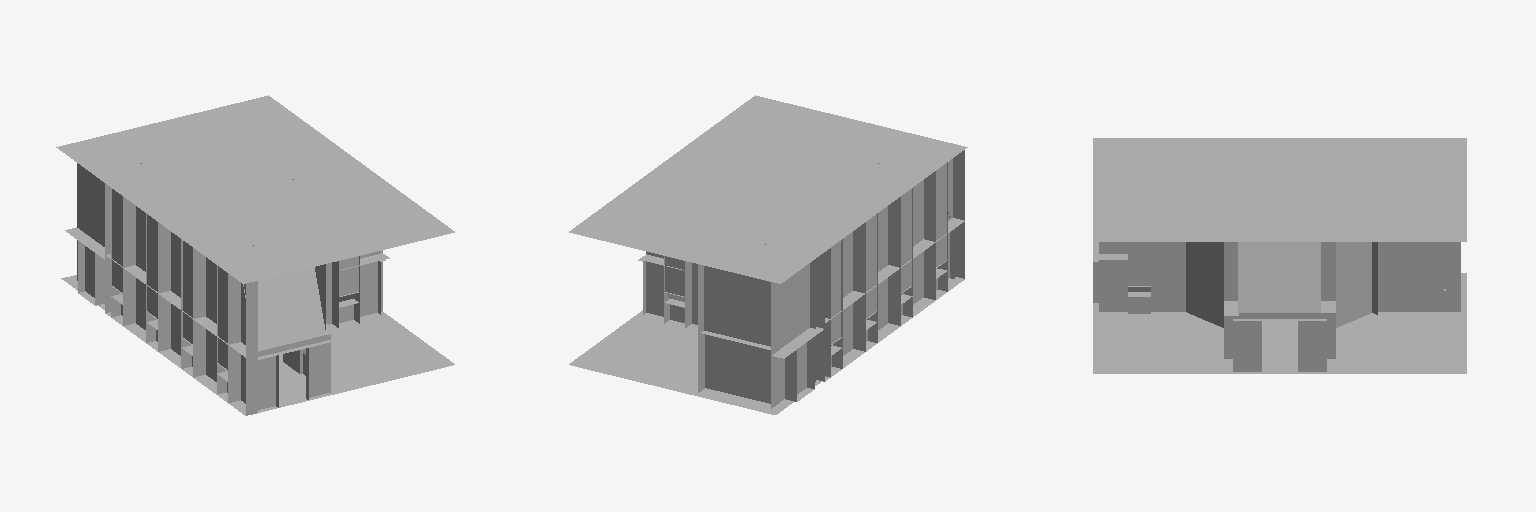
The model's file is LC_room2C_2.obj.
3 views of the same model, side by side, from view 1: azimuth 30°, elevation 25°; view 2: azimuth 150°, elevation 25°; view 3: azimuth 270°, elevation 25° (orthographic).
Visible parts, largest first — view 1: room2c2_opt; view 2: room2c2_opt; view 3: room2c2_opt.
Part boxes in pixels (x1,y1,x2,y2): room2c2_opt: (56, 95, 454, 415); room2c2_opt: (569, 95, 967, 414); room2c2_opt: (1093, 138, 1466, 373).
Bounding box in the file's own units: 13.44 × 8.01 × 20.48.